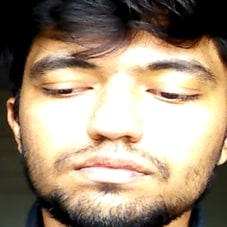drowsy: (24, 45, 227, 193)
